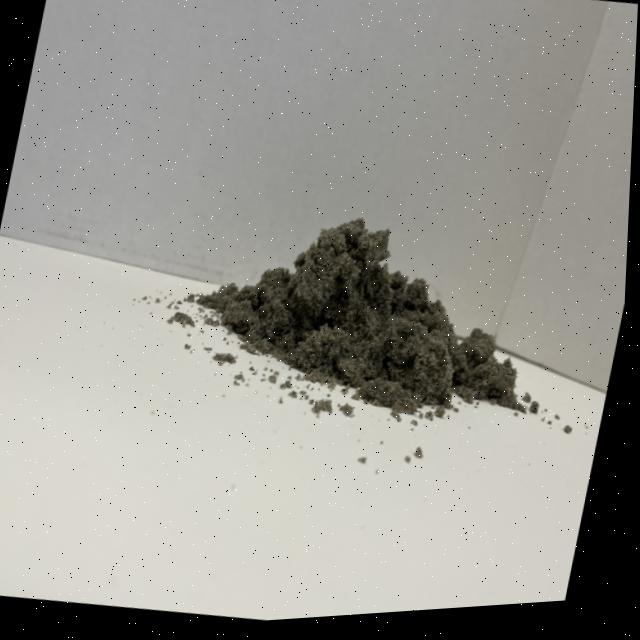sand: (203, 172, 527, 448)
